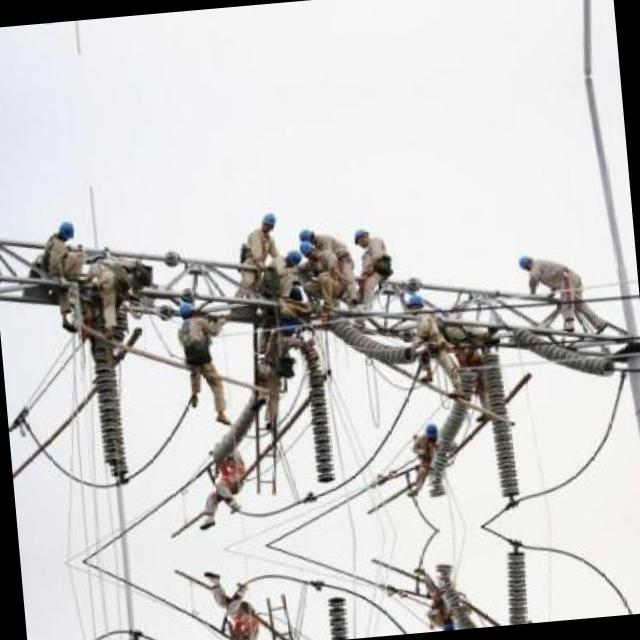helmet: (53, 216, 75, 247), (299, 238, 323, 264), (420, 418, 440, 448), (516, 248, 540, 272), (404, 290, 428, 314), (176, 297, 198, 323), (351, 228, 374, 250), (296, 222, 320, 242), (260, 208, 276, 236), (277, 248, 300, 267), (436, 609, 456, 628), (35, 22, 57, 30)
